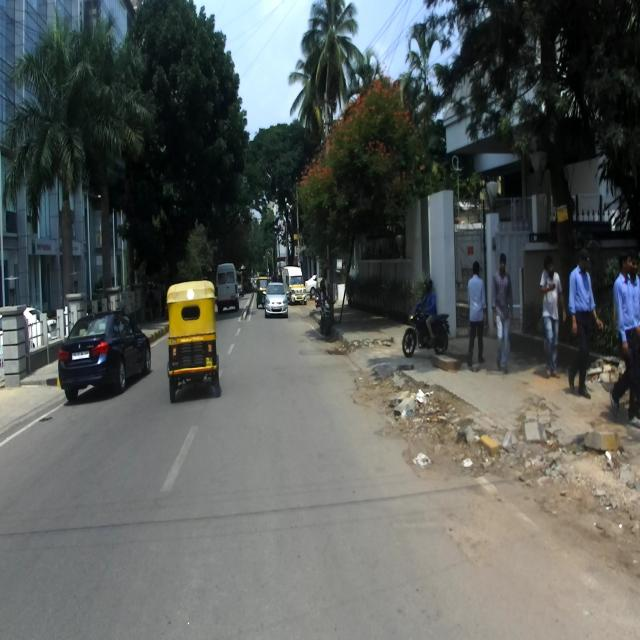Car_BMW: (57, 308, 151, 401)
Car_Hyundai: (263, 282, 288, 318)
autorickshaw: (167, 279, 218, 403)
mini-bus: (215, 262, 241, 312)
motorcycle_bajaj: (400, 305, 450, 356)
truck: (282, 265, 307, 306)
